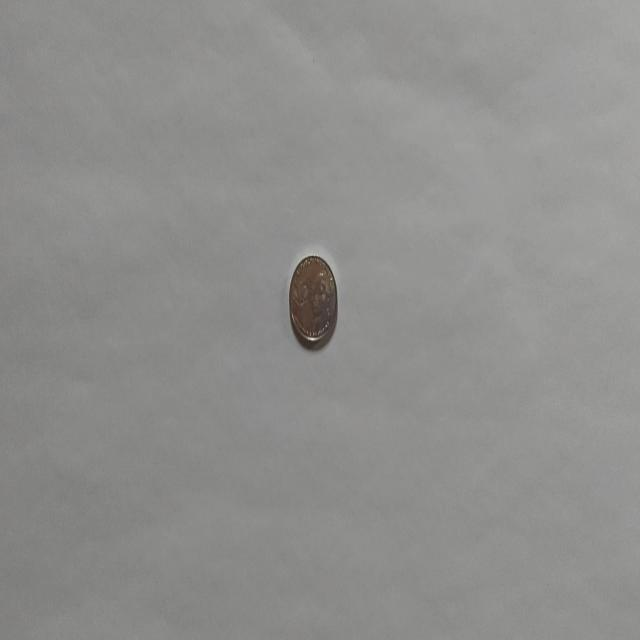lima ratus rupiah: (288, 252, 338, 346)
